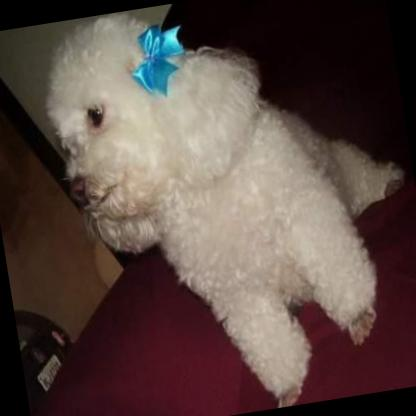toy_poodle: (30, 0, 416, 416)
